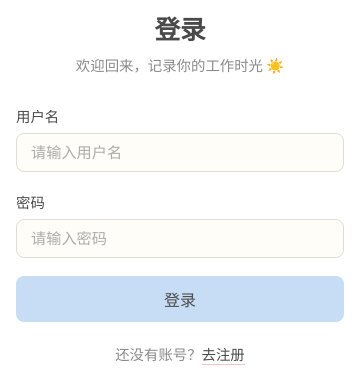
Test: LoginPage › disables button while loading
This screenshot has width=361, height=382.
Type "u" into the field labelled "用户名". click: x=180, y=152
box: 16,133 -> 344,172
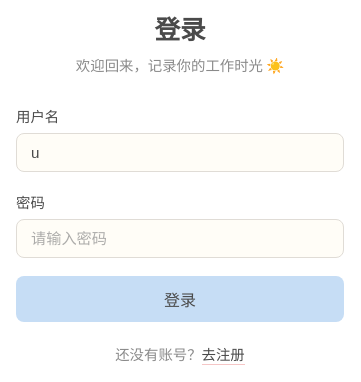
Type "p" into the password field labelled "密码". click: x=180, y=238
box: 16,219 -> 344,258
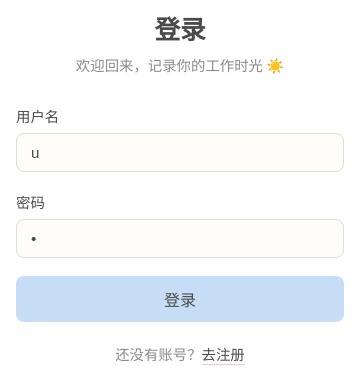
Click the button "登录". click: x=180, y=299
box: 16,276 -> 344,322
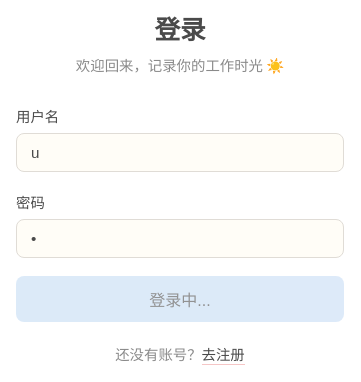
Expected: the button "登录中..." is disabled, 16,276 -> 344,322
